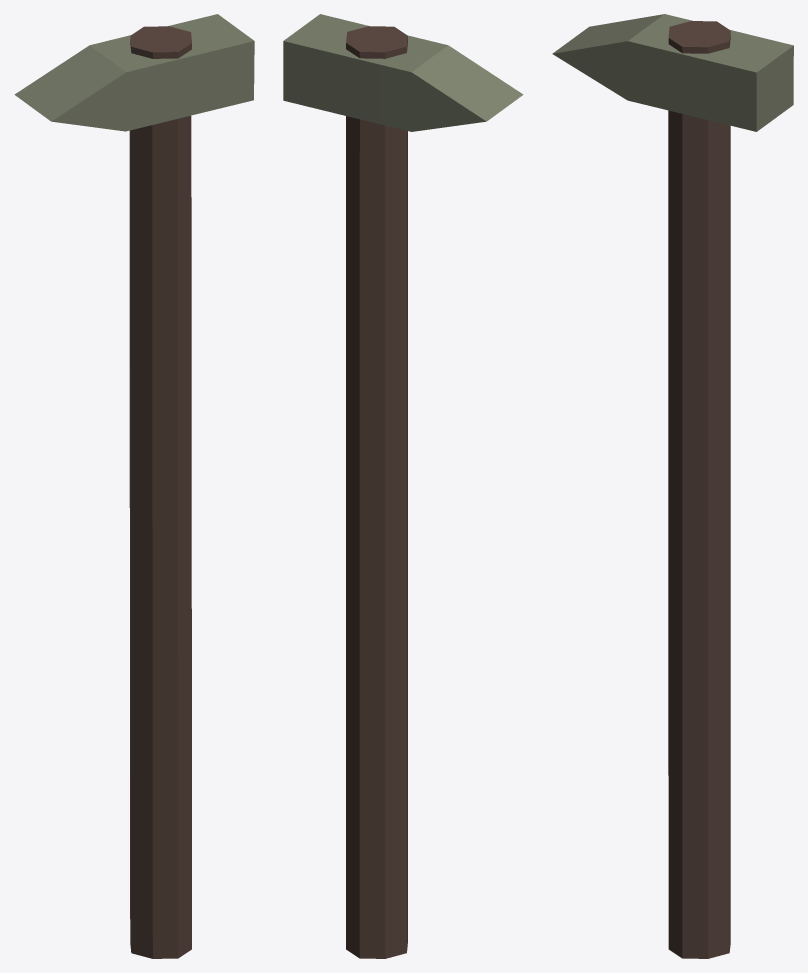
Rendered from martell.fbx.
The picture shows the model from 3 angles, left to right: view 1: azimuth 30°, elevation 25°; view 2: azimuth 150°, elevation 25°; view 3: azimuth 330°, elevation 25°; orthographic projection.
Parts seen in each view (by area): view 1: Cube.001; view 2: Cube.001; view 3: Cube.001.
Boxes of the visible parts, x1=… form: Cube.001: x1=14, y1=14, x2=254, y2=958; Cube.001: x1=283, y1=14, x2=523, y2=958; Cube.001: x1=552, y1=14, x2=793, y2=958.
Size of the model in its own units: 60.13 by 256 by 19.05.
